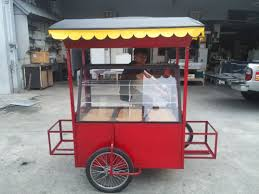cart: (44, 17, 219, 188)
person: (125, 49, 159, 105)
